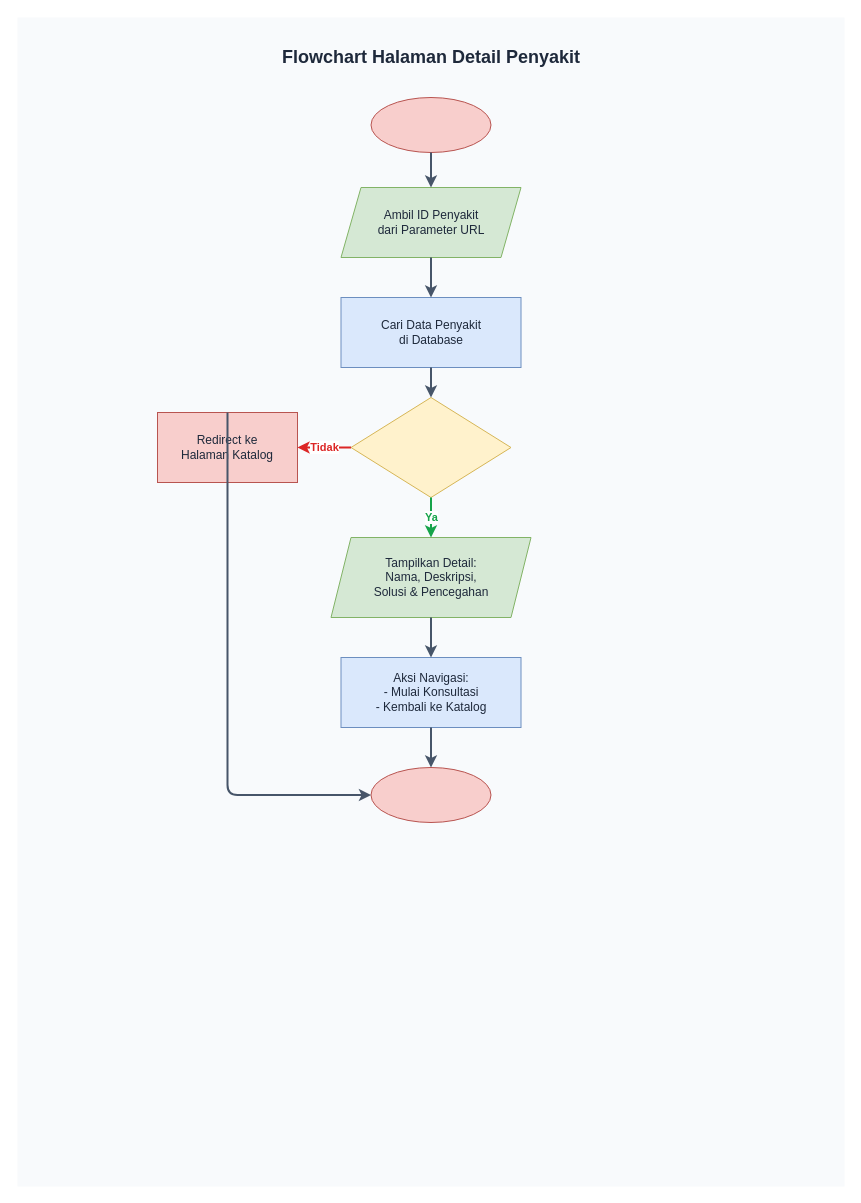
Some shapes in this 861 by 1203 pixel diagram are drawn without their labels. Here are the shapes that lost their labels. From the top down, the box of each, then its label:
(370, 96, 491, 152): Mulai
(350, 396, 511, 498): Data Ditemukan?
(370, 766, 491, 822): Selesai
